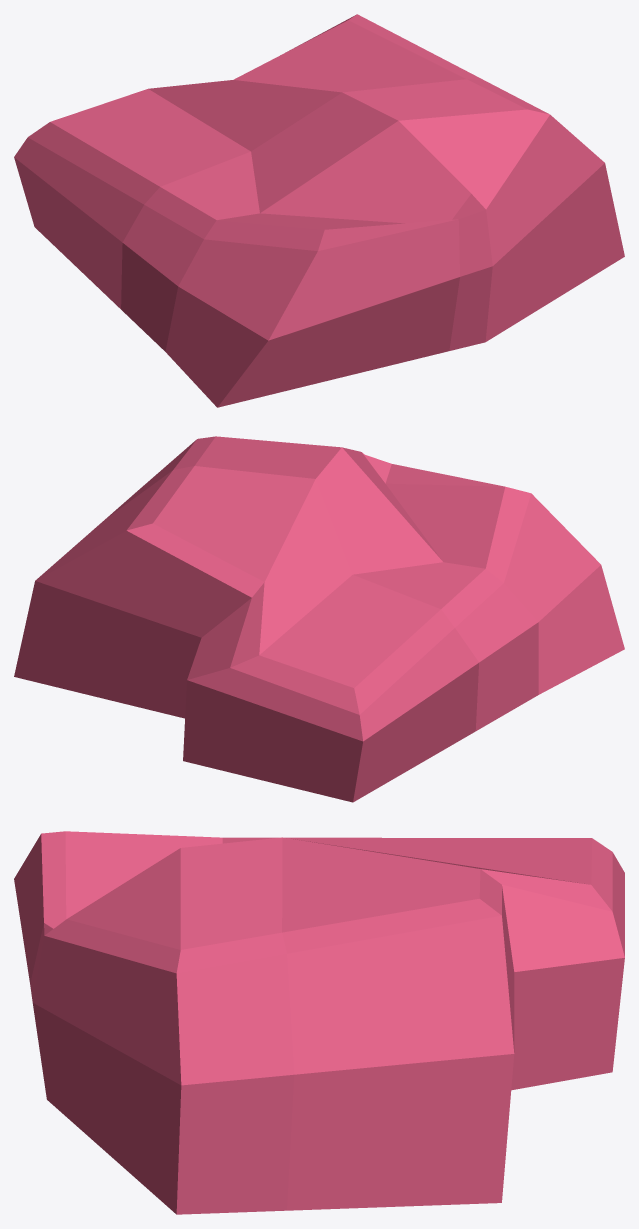
The model's file is Rock_2.fbx.
3 views of the same model, one above another, from view 1: azimuth 30°, elevation 25°; view 2: azimuth 150°, elevation 25°; view 3: azimuth 270°, elevation 25° (orthographic). The views are drawn at different scales.
Parts seen in each view (by area): view 1: Rock_2_low; view 2: Rock_2_low; view 3: Rock_2_low.
Boxes of the visible parts, box(x1,y1,x2,y2) form: Rock_2_low: box(14, 14, 624, 407); Rock_2_low: box(14, 436, 624, 802); Rock_2_low: box(14, 831, 624, 1214).
Size of the model in its own units: 0.2488 by 0.0986 by 0.2332.
